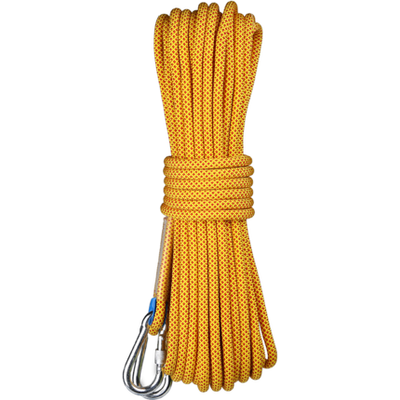9/可回收垃圾/绳子: (120, 1, 279, 400)
